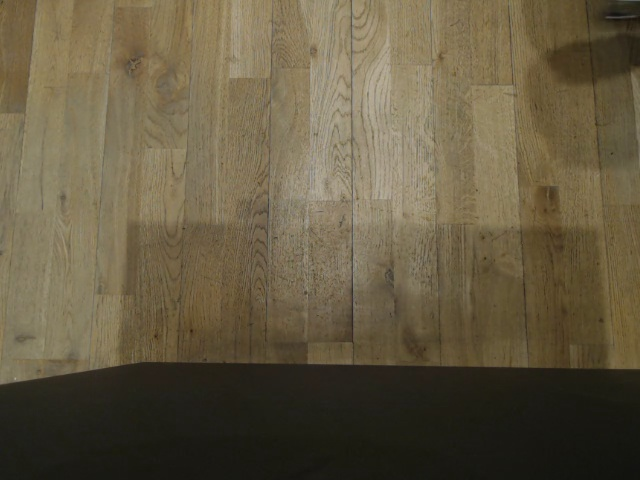beer: (602, 0, 639, 22)
